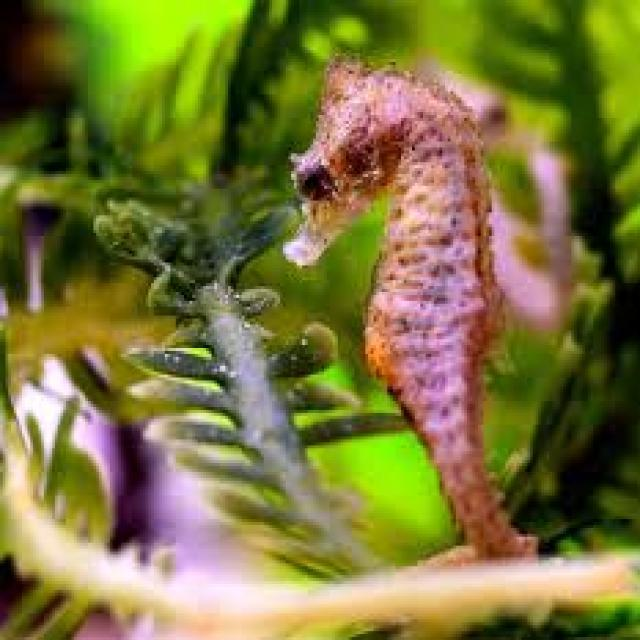SeaHorse: (283, 56, 541, 560)
